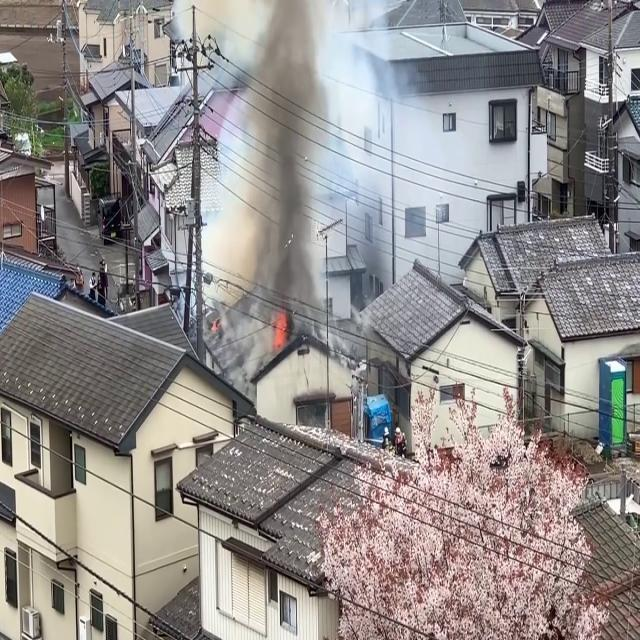Smoke: (211, 1, 330, 380)
